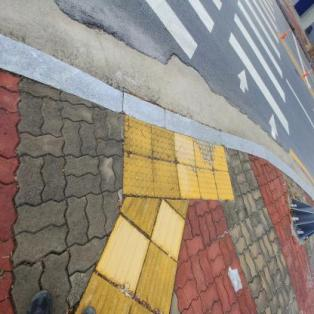Podoctatil: (68, 193, 200, 314), (116, 111, 238, 205)
